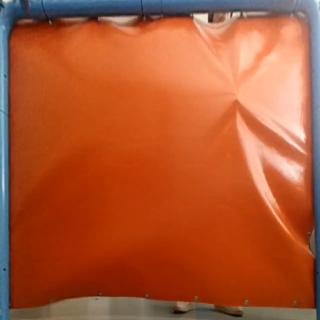Hit-hRxx: (232, 92, 244, 108)
